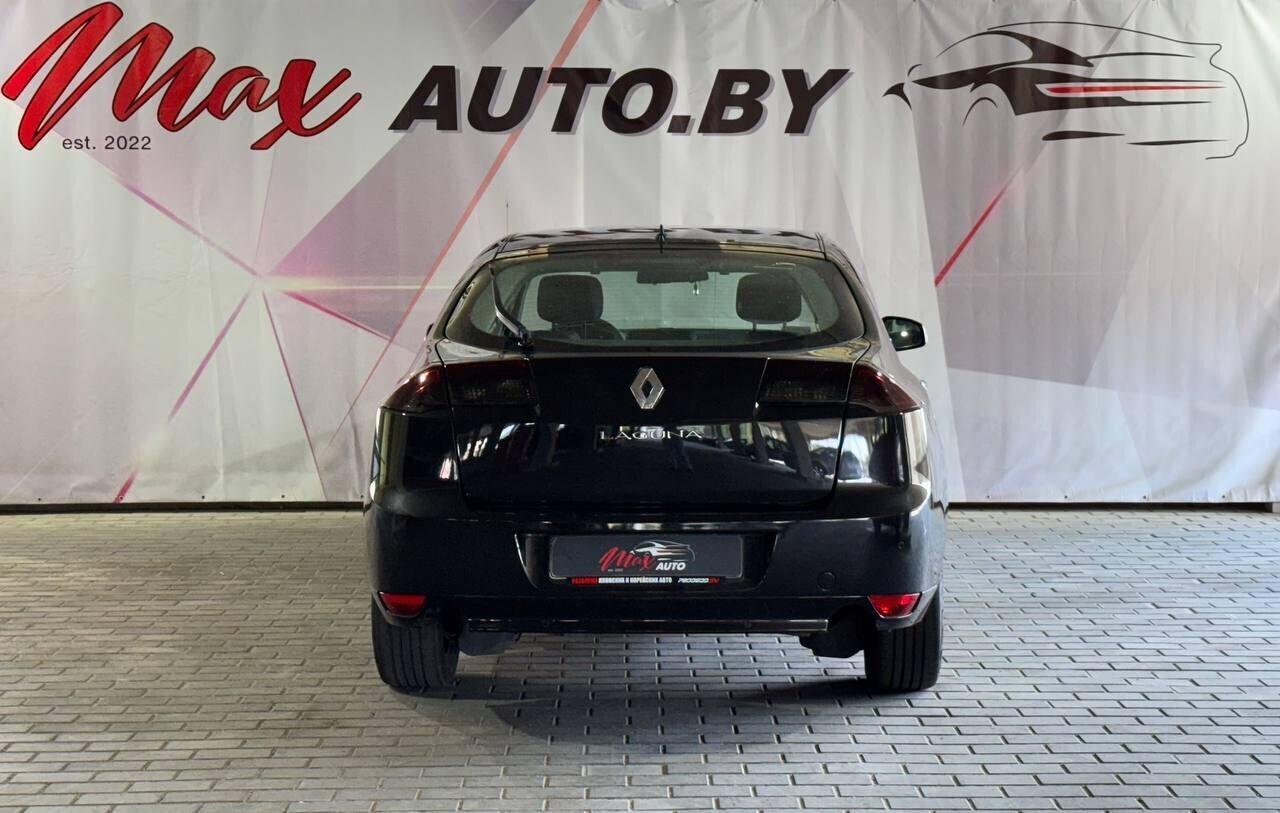Laguna_2007-2011: (364, 227, 945, 689)
